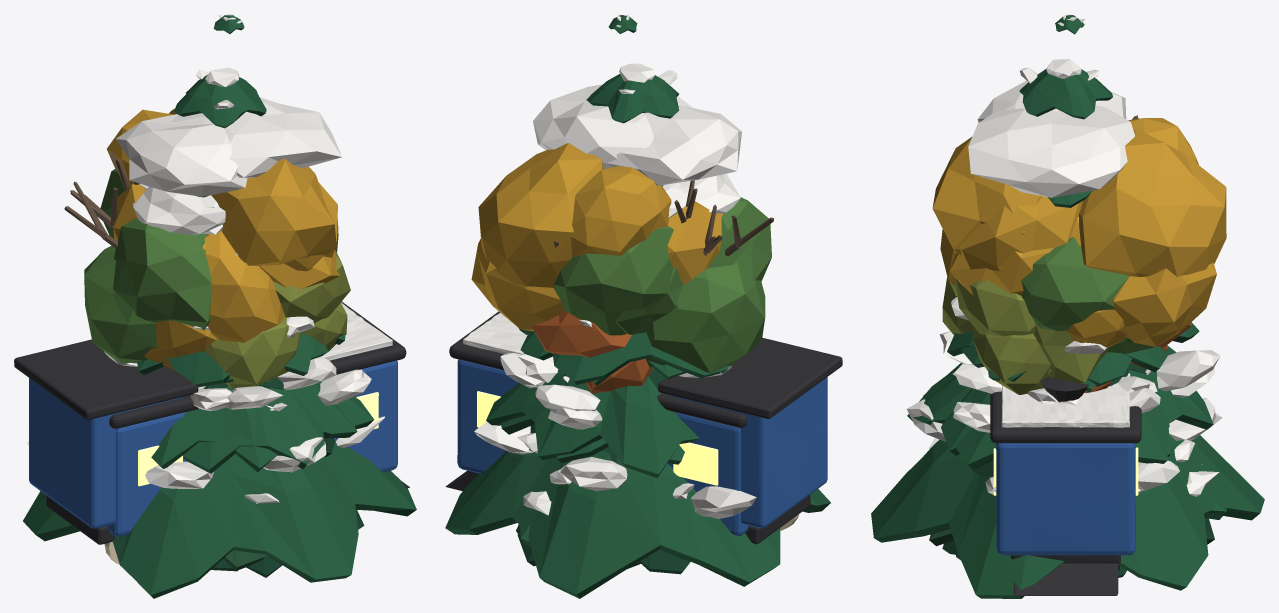
The model's file is protos.glb.
3 views of the same model, side by side, from view 1: azimuth 30°, elevation 25°; view 2: azimuth 150°, elevation 25°; view 3: azimuth 270°, elevation 25° (orthographic). The views are drawn at different scales.
Visible parts, largest first — view 1: fir3__Needles_0.102, decid0__LeafGreen, decid4__Snow, decid4__LeafGold, train_blue_engine__Train_blue, train_blue_engine__TrainBlack, decid2__LeafGold, decid1__LeafOlive, train_blue_car__Train_blue, fir1__Needles_0.102, fir3__Snow, decid0__Snow (+7 smaller); view 2: fir3__Needles_0.102, decid4__LeafGold, decid0__LeafGreen, decid4__Snow, train_blue_engine__Train_blue, train_blue_engine__TrainBlack, fir3__Snow, train_blue_car__Train_blue, decid3__LeafRust, train_blue_car__TrainBlack, fir1__Needles_0.102, fir1__Snow (+5 smaller); view 3: decid4__LeafGold, fir3__Needles_0.102, train_blue_car__Train_blue, decid4__Snow, decid1__LeafOlive, fir3__Snow, decid0__LeafGreen, fir1__Needles_0.102, train_blue_car__Snow, train_blue_car__TrainBlack, train_blue_engine__TrainBlack, fir1__Snow (+3 smaller).
Part boxes in pixels (<box>): fir3__Needles_0.102: <box>23,15,416,598</box>; decid0__LeafGreen: <box>84,169,338,363</box>; decid4__Snow: <box>116,97,341,196</box>; decid4__LeafGold: <box>107,108,340,289</box>; train_blue_engine__Train_blue: <box>29,378,182,528</box>; train_blue_engine__TrainBlack: <box>14,339,409,544</box>; decid2__LeafGold: <box>144,230,285,371</box>; decid1__LeafOlive: <box>205,250,350,388</box>; train_blue_car__Train_blue: <box>108,360,397,536</box>; fir1__Needles_0.102: <box>137,333,374,473</box>; fir3__Snow: <box>26,14,384,489</box>; decid0__Snow: <box>133,183,225,234</box>; fir3__Needles_0.102: <box>445,15,830,598</box>; decid4__LeafGold: <box>471,143,722,331</box>; decid0__LeafGreen: <box>553,197,771,372</box>; decid4__Snow: <box>533,84,741,185</box>; train_blue_engine__Train_blue: <box>673,377,827,528</box>; train_blue_engine__TrainBlack: <box>445,337,842,544</box>; fir3__Snow: <box>474,14,756,518</box>; train_blue_car__Train_blue: <box>457,359,748,535</box>; decid3__LeafRust: <box>531,310,653,393</box>; train_blue_car__TrainBlack: <box>449,311,747,476</box>; fir1__Needles_0.102: <box>501,331,686,559</box>; fir1__Snow: <box>517,353,694,498</box>; decid4__LeafGold: <box>932,118,1226,346</box>; fir3__Needles_0.102: <box>871,15,1264,598</box>; train_blue_car__Train_blue: <box>996,443,1135,555</box>; decid4__Snow: <box>968,80,1134,197</box>; decid1__LeafOlive: <box>942,276,1108,394</box>; fir3__Snow: <box>907,14,1222,495</box>; decid0__LeafGreen: <box>1021,237,1157,353</box>; fir1__Needles_0.102: <box>907,331,1227,519</box>; train_blue_car__Snow: <box>1001,373,1130,427</box>; train_blue_car__TrainBlack: <box>990,391,1141,570</box>; train_blue_engine__TrainBlack: <box>1013,377,1118,595</box>; fir1__Snow: <box>951,297,1214,495</box>.
Size of the model in its own units: 6.83 by 10.02 by 6.77.
